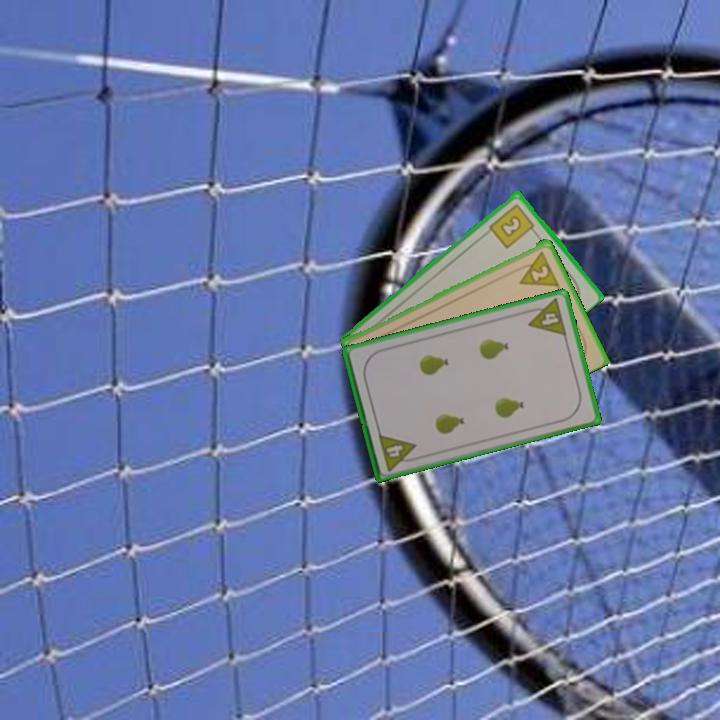2b: (486, 200, 539, 251)
2p: (511, 247, 561, 289)
4p: (522, 295, 569, 339), (375, 430, 421, 474)
